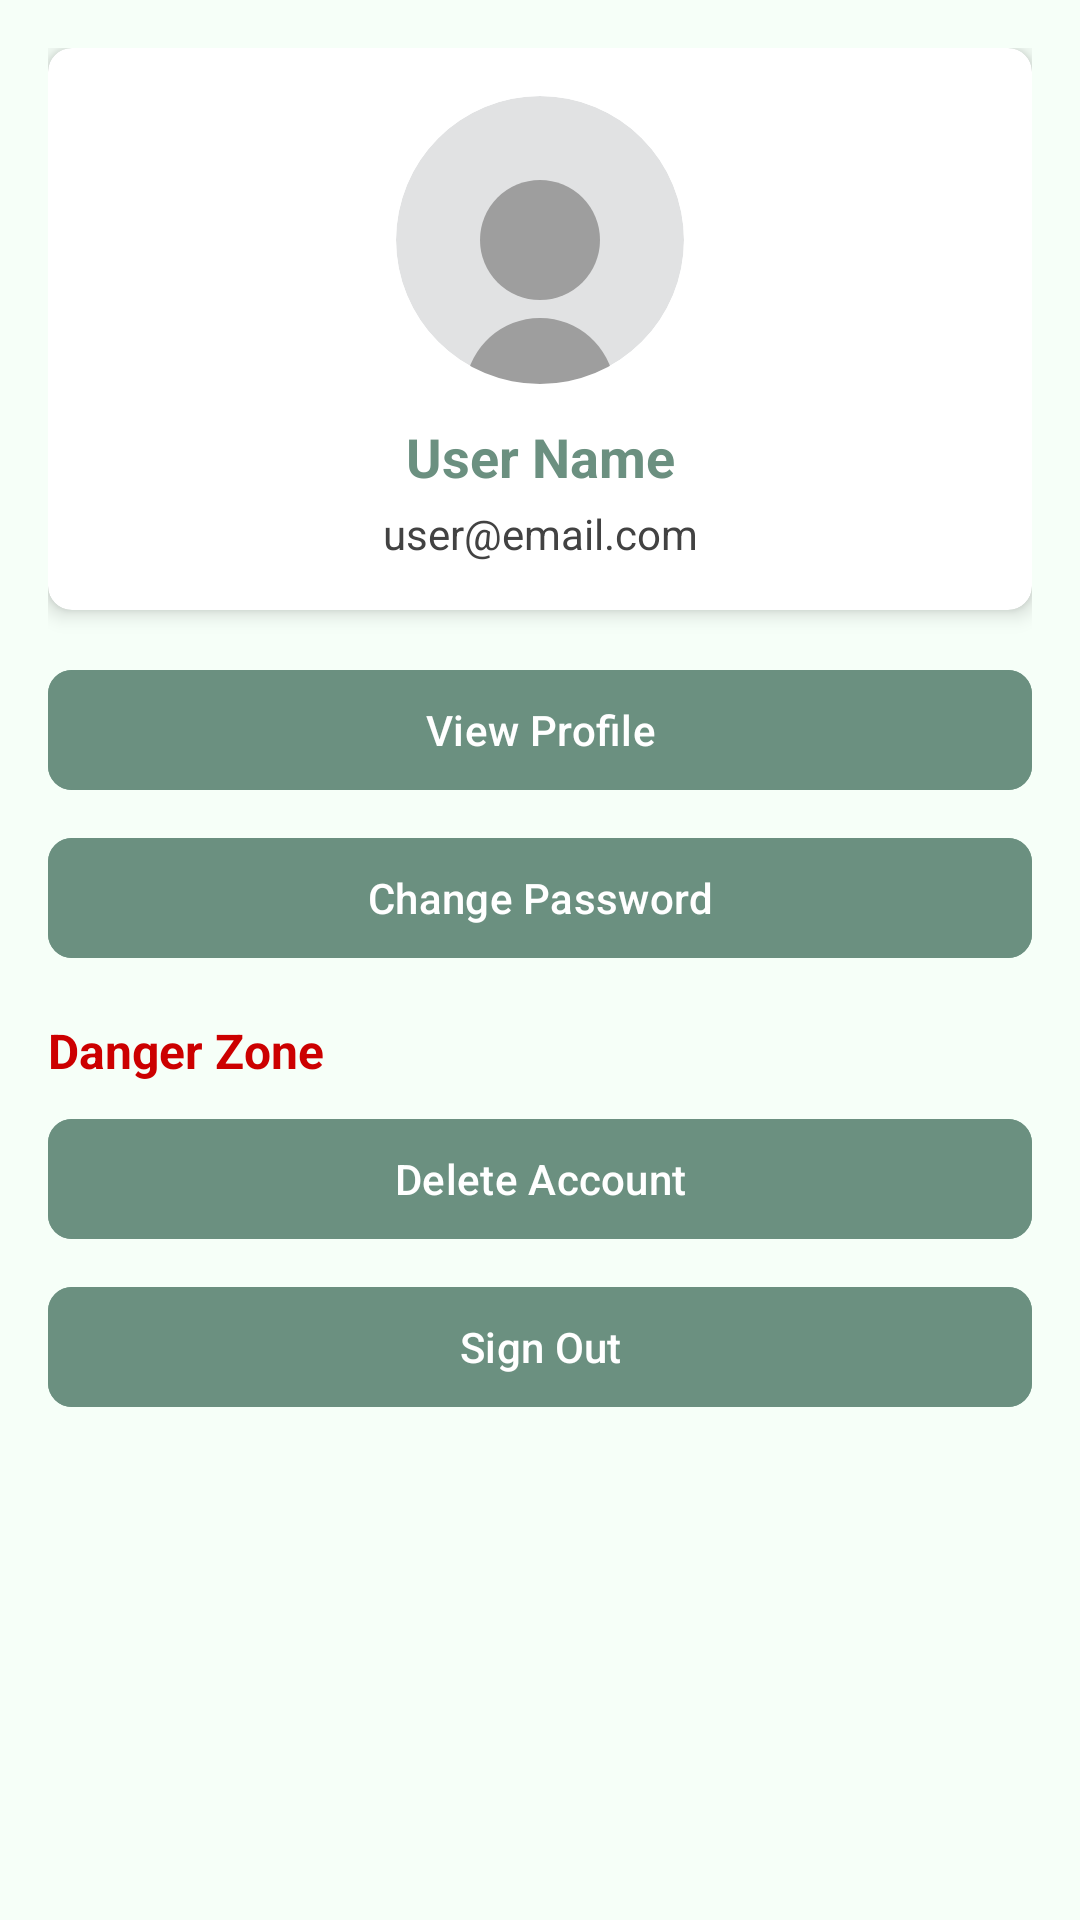

Icon bounding boxes for this 1080 × 1920 phone screenshot, format (x1, y1, x2, y2):
profile: (396, 96, 684, 384)
